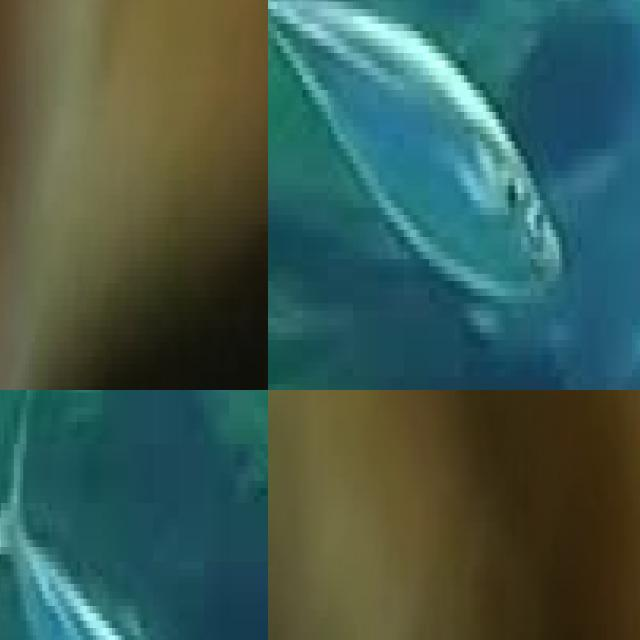fish: (0, 0, 268, 390), (268, 0, 565, 310)
